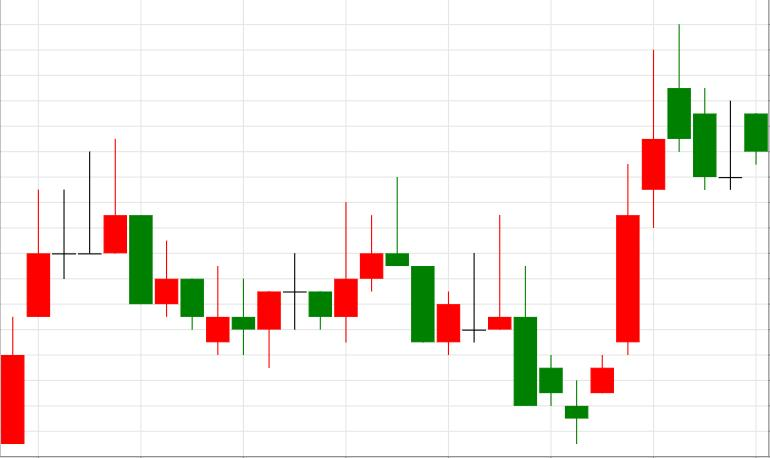morning_star_rise: (386, 177, 613, 443)
